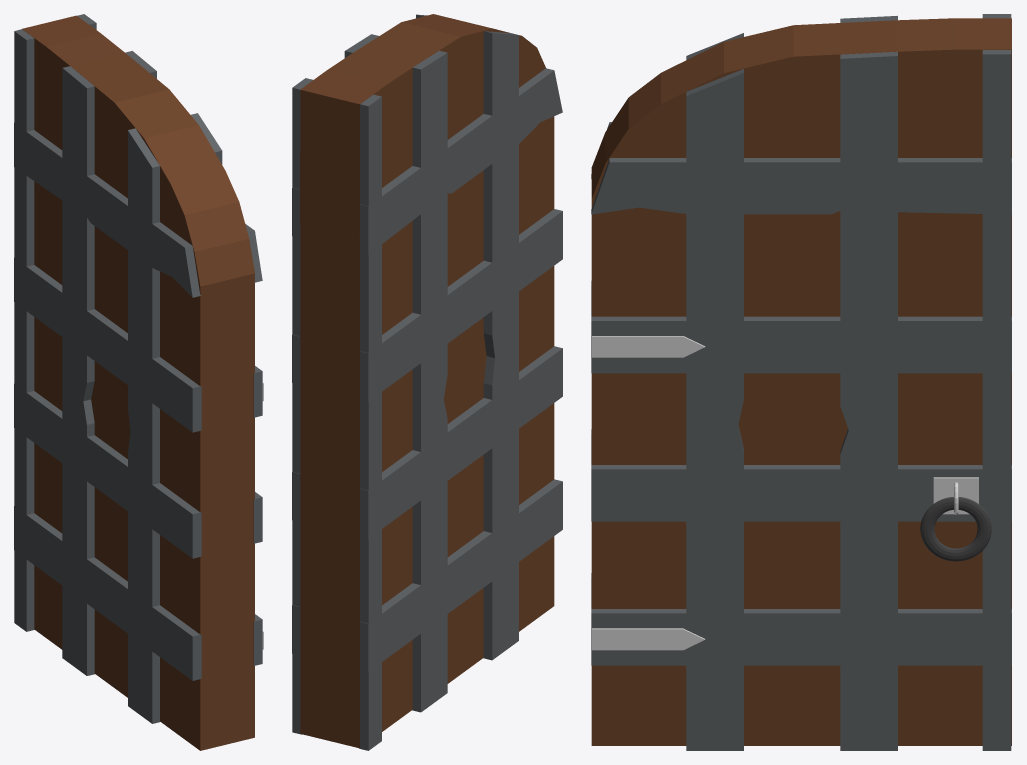
The model's file is door.obj.
3 renders of one model, left to right at view 1: azimuth 30°, elevation 25°; view 2: azimuth 150°, elevation 25°; view 3: azimuth 270°, elevation 25°, orthographic. The views are drawn at different scales.
Visible parts, largest first — view 1: Cube_Cube.001; view 2: Cube_Cube.001; view 3: Cube_Cube.001.
Boxes of the visible parts, bbox=[...] form: Cube_Cube.001: bbox=[14, 14, 263, 750]; Cube_Cube.001: bbox=[292, 14, 562, 750]; Cube_Cube.001: bbox=[591, 14, 1011, 750].
Size of the model in its own units: 0.3584 by 2.47 by 1.35.
Materials: 1 (1 with a texture image).
